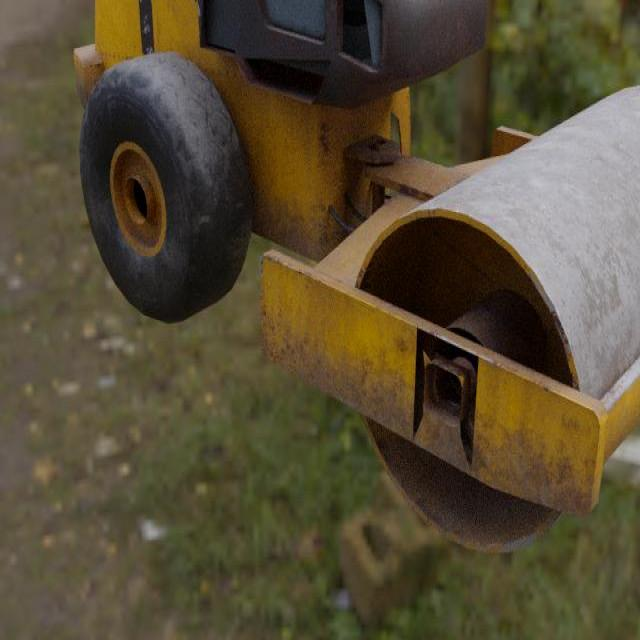Roller: (73, 0, 640, 555)
